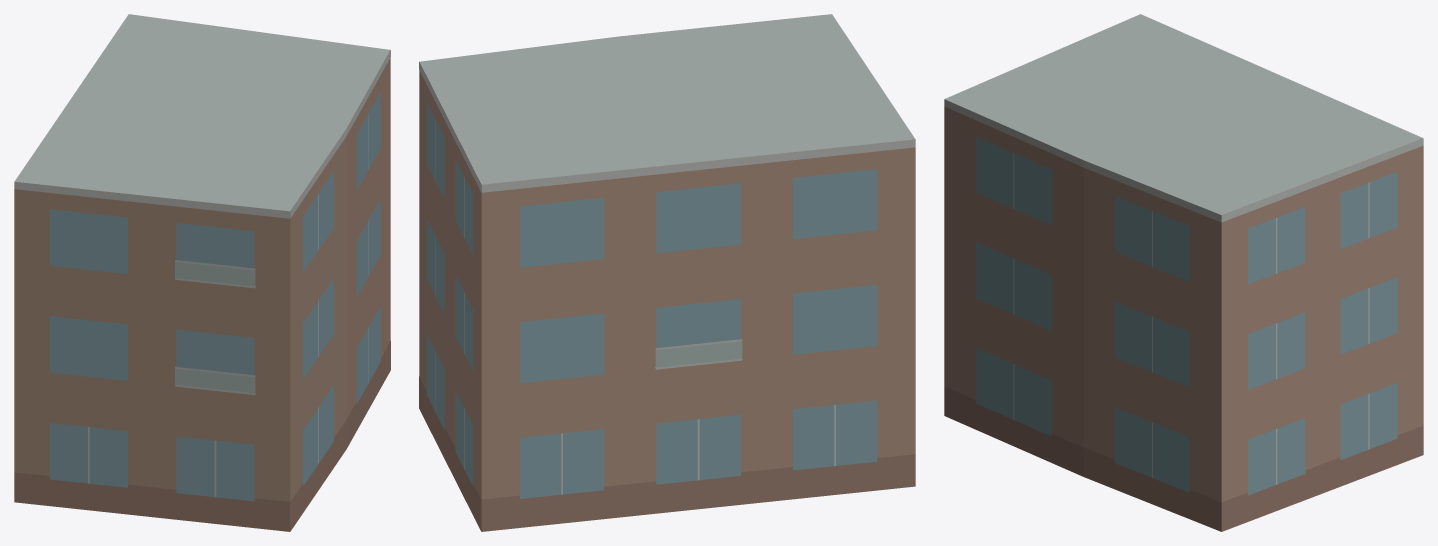
File: survey-upis-32503473.glb
3 renders of one model, left to right at view 1: azimuth 30°, elevation 25°; view 2: azimuth 150°, elevation 25°; view 3: azimuth 270°, elevation 25°, orthographic. The views are drawn at different scales.
Parts seen in each view (by area): view 1: survey-upis-32503473.tmp; view 2: survey-upis-32503473.tmp; view 3: survey-upis-32503473.tmp.
Part boxes in pixels (box(x1,y1,x2,y2)): survey-upis-32503473.tmp: box(14, 14, 390, 531); survey-upis-32503473.tmp: box(419, 14, 915, 531); survey-upis-32503473.tmp: box(944, 14, 1423, 531).
Size of the model in its own units: 14.45 by 10.6 by 14.55.
